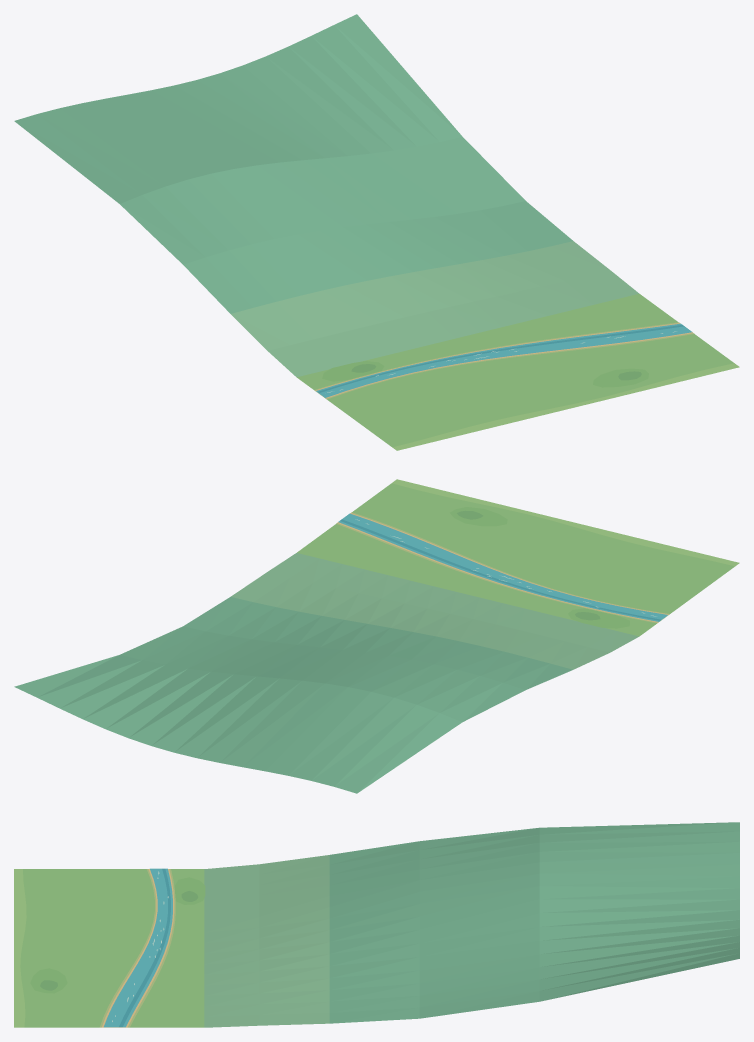
The model's file is Ruisseau_4.fbx.
3 renders of one model, top to bottom at view 1: azimuth 30°, elevation 25°; view 2: azimuth 150°, elevation 25°; view 3: azimuth 270°, elevation 25°, orthographic. The views are drawn at different scales.
Parts seen in each view (by area): view 1: Ruisseau_4; view 2: Ruisseau_4; view 3: Ruisseau_4.
Boxes of the visible parts, x1,y1,x2,y2 form: Ruisseau_4: [14, 14, 739, 450]; Ruisseau_4: [14, 479, 739, 793]; Ruisseau_4: [14, 822, 739, 1027].
Bounding box in the file's own units: 7500 × 1521 × 14504.
1 material, 1 textured.
